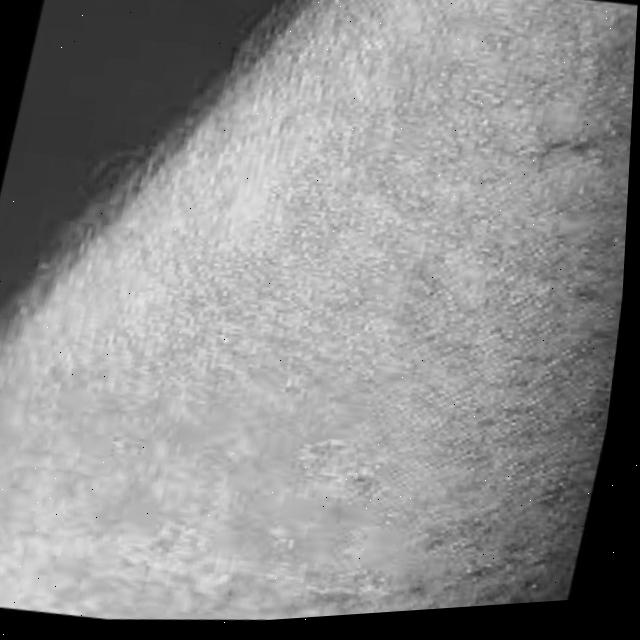Eczema: (30, 75, 634, 618)
